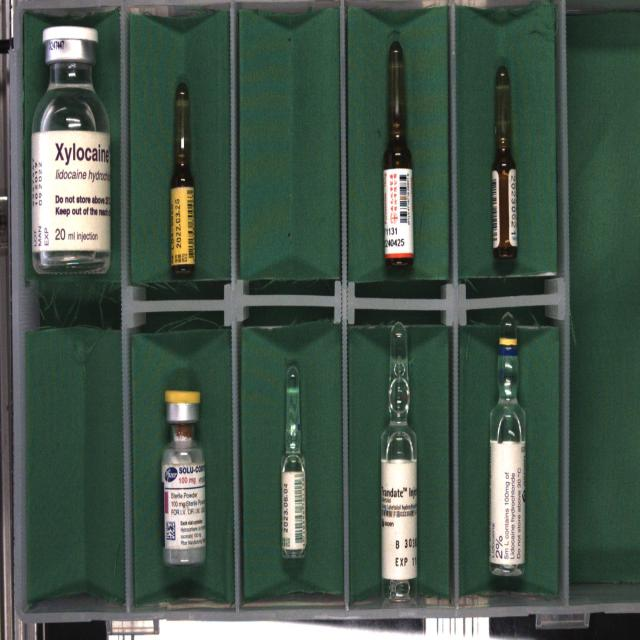Vials: (31, 26, 110, 272), (162, 390, 206, 565)
